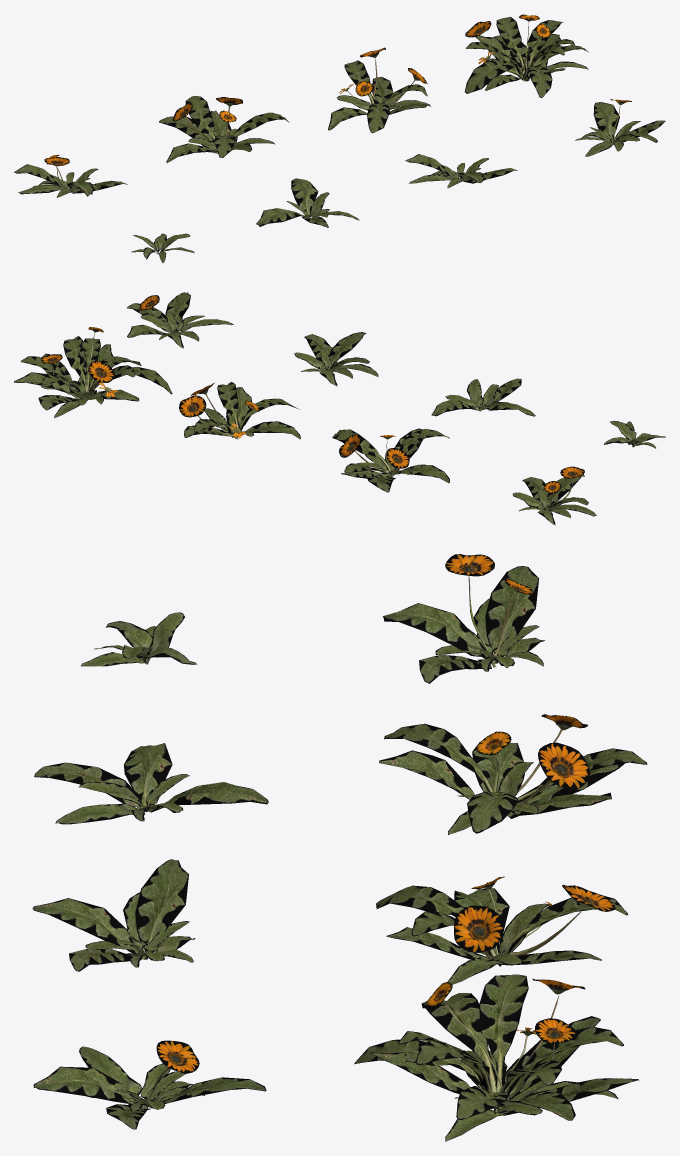
Rendered from flower_gazania.glb.
The picture shows the model from 3 angles, top to bottom: view 1: azimuth 30°, elevation 25°; view 2: azimuth 150°, elevation 25°; view 3: azimuth 270°, elevation 25°; orthographic projection. The views are drawn at different scales.
Visible parts, largest first — view 1: flower_gazania_h_LOD0, flower_gazania_f_LOD0, flower_gazania_g_LOD0, flower_gazania_d_LOD0, flower_gazania_b_LOD0, flower_gazania_e_LOD0, flower_gazania_c_LOD0, flower_gazania_a_LOD0; view 2: flower_gazania_h_LOD0, flower_gazania_g_LOD0, flower_gazania_f_LOD0, flower_gazania_d_LOD0, flower_gazania_e_LOD0, flower_gazania_c_LOD0, flower_gazania_b_LOD0, flower_gazania_a_LOD0; view 3: flower_gazania_h_LOD0, flower_gazania_f_LOD0, flower_gazania_g_LOD0, flower_gazania_e_LOD0, flower_gazania_c_LOD0, flower_gazania_d_LOD0, flower_gazania_b_LOD0, flower_gazania_a_LOD0.
Part boxes in pixels (bbox=[...]): flower_gazania_h_LOD0: bbox=[464, 14, 588, 97]; flower_gazania_f_LOD0: bbox=[159, 96, 289, 162]; flower_gazania_g_LOD0: bbox=[328, 47, 430, 133]; flower_gazania_d_LOD0: bbox=[575, 99, 665, 156]; flower_gazania_b_LOD0: bbox=[256, 178, 359, 227]; flower_gazania_e_LOD0: bbox=[14, 154, 127, 197]; flower_gazania_c_LOD0: bbox=[405, 154, 517, 188]; flower_gazania_a_LOD0: bbox=[131, 233, 194, 262]; flower_gazania_h_LOD0: bbox=[14, 327, 172, 418]; flower_gazania_g_LOD0: bbox=[179, 382, 300, 439]; flower_gazania_f_LOD0: bbox=[332, 428, 449, 492]; flower_gazania_d_LOD0: bbox=[127, 292, 233, 348]; flower_gazania_e_LOD0: bbox=[512, 466, 596, 525]; flower_gazania_c_LOD0: bbox=[294, 332, 378, 386]; flower_gazania_b_LOD0: bbox=[431, 378, 535, 416]; flower_gazania_a_LOD0: bbox=[604, 421, 665, 448]; flower_gazania_h_LOD0: bbox=[354, 974, 639, 1141]; flower_gazania_f_LOD0: bbox=[379, 714, 647, 834]; flower_gazania_g_LOD0: bbox=[376, 876, 627, 984]; flower_gazania_e_LOD0: bbox=[383, 554, 544, 683]; flower_gazania_c_LOD0: bbox=[32, 859, 194, 971]; flower_gazania_d_LOD0: bbox=[33, 1040, 266, 1129]; flower_gazania_b_LOD0: bbox=[34, 743, 268, 824]; flower_gazania_a_LOD0: bbox=[81, 612, 196, 666].
Size of the model in its own units: 1.48 by 0.1655 by 0.7028.
1 material, 1 textured.
